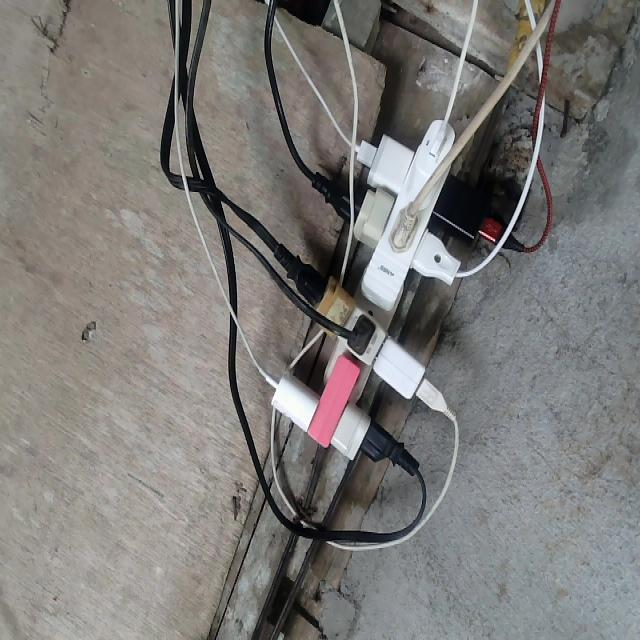-: (265, 120, 523, 476)
